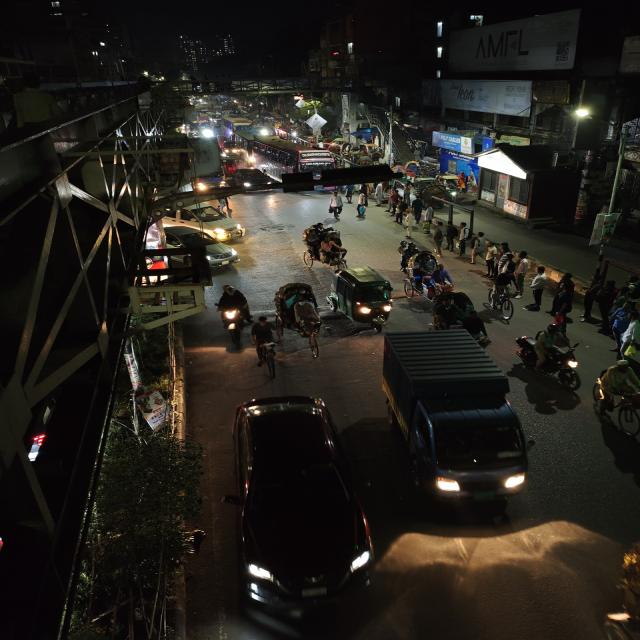bicycle: (597, 360, 640, 452), (247, 312, 287, 374), (487, 282, 518, 323)
bus: (249, 138, 336, 178), (225, 116, 254, 138)
car: (222, 390, 374, 622), (160, 225, 241, 269), (226, 168, 282, 195)
cng: (331, 264, 398, 332), (219, 135, 244, 160)
motorcycle: (513, 330, 583, 390), (214, 282, 252, 346), (326, 192, 348, 220)
pedestrian: (618, 311, 640, 387), (551, 276, 578, 320), (525, 265, 552, 308), (576, 284, 602, 322), (509, 251, 531, 293), (431, 220, 448, 258), (326, 192, 347, 222), (448, 221, 466, 256), (469, 232, 486, 266), (483, 245, 499, 277), (456, 221, 471, 255), (354, 193, 372, 220), (444, 222, 460, 252), (411, 194, 426, 225)
pickup_van: (191, 170, 226, 192)
rickshaw: (268, 280, 327, 358), (396, 253, 464, 303), (298, 225, 349, 273)
truck: (375, 327, 536, 512)
